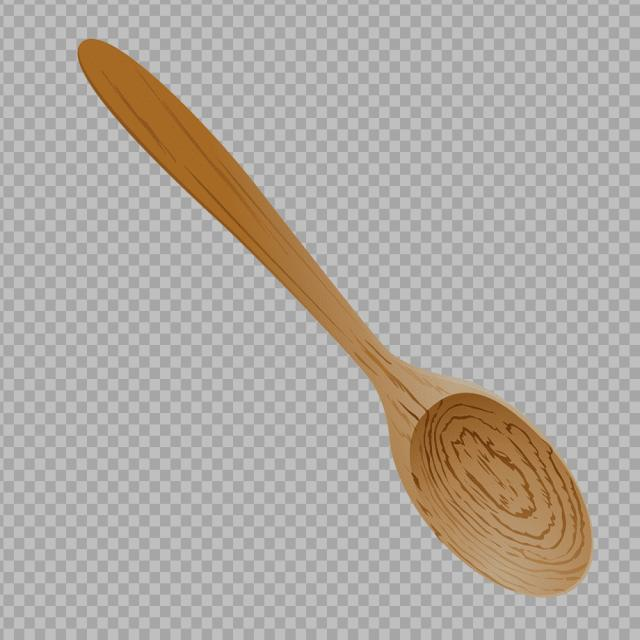Sendok: (53, 36, 606, 601)
